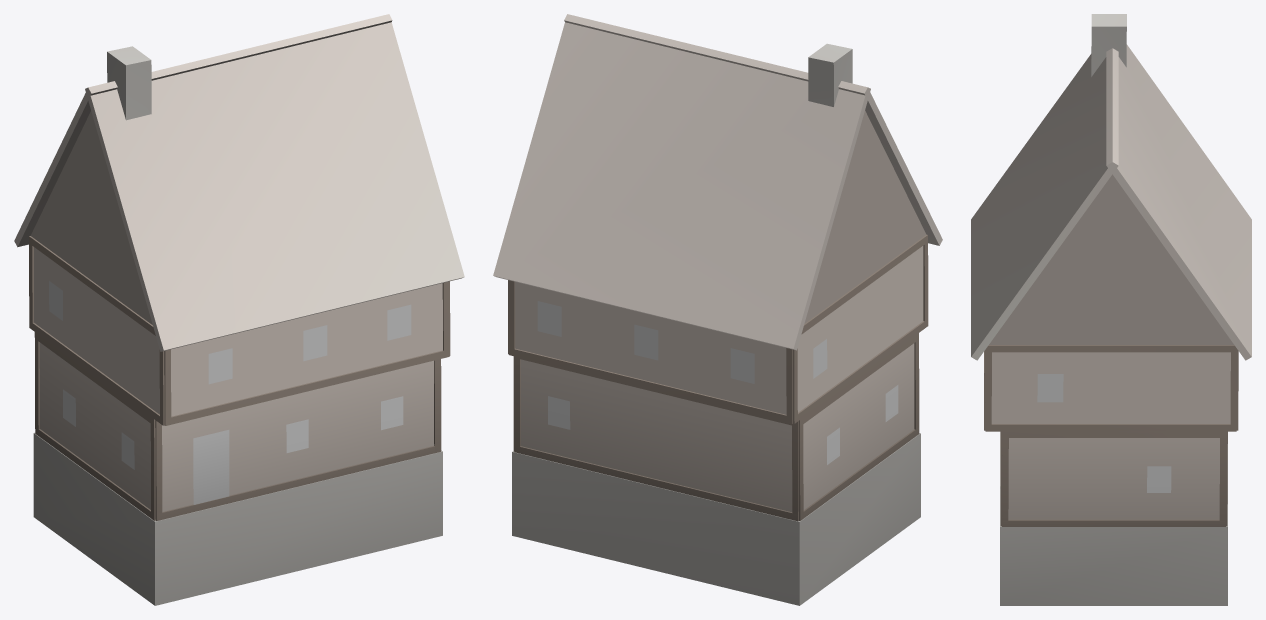
The model's file is timber_4.glb.
The picture shows the model from 3 angles, left to right: view 1: azimuth 30°, elevation 25°; view 2: azimuth 150°, elevation 25°; view 3: azimuth 270°, elevation 25°; orthographic projection. The views are drawn at different scales.
Parts seen in each view (by area): view 1: timber_4; view 2: timber_4; view 3: timber_4.
Boxes of the visible parts, x1=… form: timber_4: x1=14, y1=14, x2=464, y2=605; timber_4: x1=493, y1=14, x2=942, y2=605; timber_4: x1=971, y1=14, x2=1251, y2=605.
Size of the model in its own units: 8.81 by 13.98 by 7.58.
